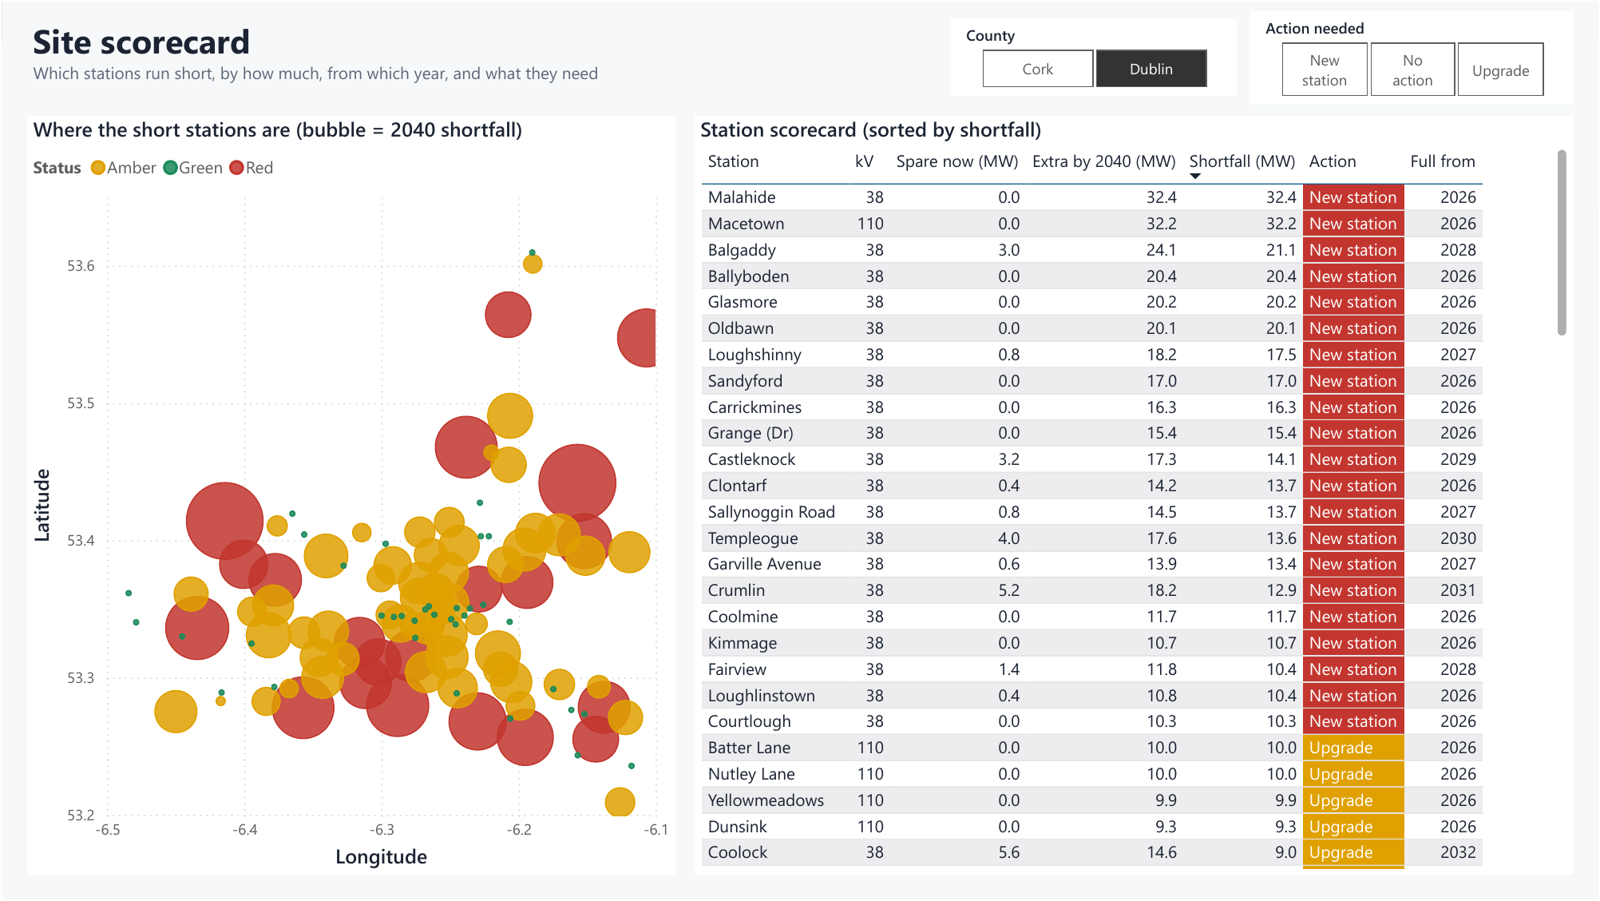

Layout of this report page (visuals, bound fields, positions):
{"tool":"powerbi","page":{"name":"Scorecard","canvas":[1280,720],"ordinal":2},"visuals":[{"type":"textbox","box":[20,8,720,76],"z":1000},{"type":"slicer","fields":{"Values":["dim_county.County"]},"box":[760,14,230,62],"z":2000},{"type":"slicer","fields":{"Values":["dim_station.Action2040"]},"box":[999.7,7.6,260.8,75.6],"z":3000},{"type":"scatterChart","title":"Where the short stations are (bubble = 2040 shortfall)","fields":{"Category":["dim_station.Station"],"Series":["dim_station.Status2040"],"Size":["_Measures.Shortfall 2040 MW"],"X":["Avg(dim_station.Longitude)"],"Y":["Avg(dim_station.Latitude)"]},"box":[20,92,520,608],"z":4000},{"type":"tableEx","title":"Station scorecard (sorted by shortfall)","fields":{"Values":["dim_station.Station","dim_station.VoltageKV","dim_station.HeadroomNowMW","dim_station.Extra2040MW","dim_station.Shortfall2040MW","dim_station.Action2040","dim_station.YearFull"]},"box":[555,92,705,608],"z":5000}]}

Visuals, with their boxes in screenshot pixels (x1, y1, x2, y2), scaled from the page's 1280x720 canvas onto the 1600x901 screenshot:
textbox: (x1=25, y1=10, x2=925, y2=105)
slicer - dim_county.County: (x1=950, y1=18, x2=1238, y2=95)
slicer - dim_station.Action2040: (x1=1250, y1=10, x2=1576, y2=104)
"Where the short stations are (bubble = 2040 shortfall)" scatterChart: (x1=25, y1=115, x2=675, y2=876)
"Station scorecard (sorted by shortfall)" tableEx: (x1=694, y1=115, x2=1575, y2=876)
